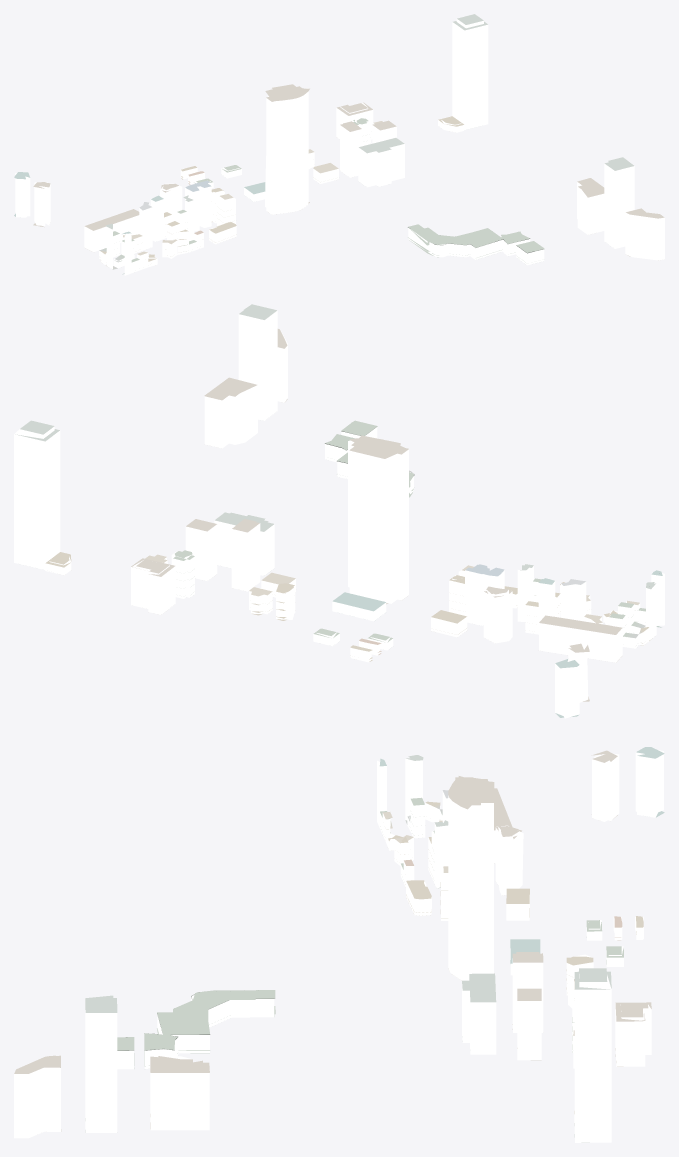
The model's file is buildings-1_0-coarse.glb.
3 renders of one model, top to bottom at view 1: azimuth 30°, elevation 25°; view 2: azimuth 150°, elevation 25°; view 3: azimuth 270°, elevation 25°, orthographic. The views are drawn at different scales.
Visible parts, largest first — view 1: block_1_0_office, block_1_0_roof, block_1_0_residential; view 2: block_1_0_office, block_1_0_roof, block_1_0_residential; view 3: block_1_0_office, block_1_0_roof, block_1_0_residential.
Part boxes in pixels (x1,y1,x2,y2): block_1_0_office: [15, 19, 664, 275]; block_1_0_roof: [14, 14, 664, 274]; block_1_0_residential: [99, 118, 544, 272]; block_1_0_office: [14, 310, 664, 718]; block_1_0_roof: [15, 304, 662, 717]; block_1_0_residential: [45, 427, 649, 662]; block_1_0_office: [14, 750, 663, 1142]; block_1_0_roof: [14, 747, 664, 1142]; block_1_0_residential: [117, 799, 643, 1122].
Size of the model in its own units: 635 by 159 by 519.
